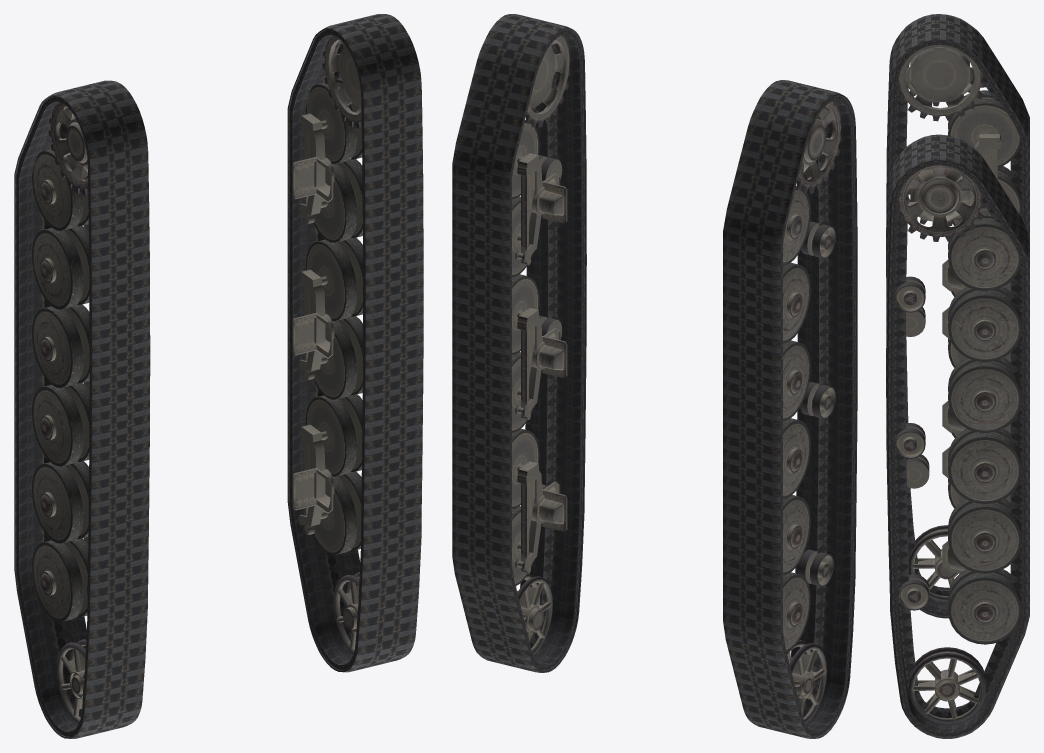
The model's file is Chassis.glb.
3 renders of one model, left to right at view 1: azimuth 30°, elevation 25°; view 2: azimuth 150°, elevation 25°; view 3: azimuth 270°, elevation 25°, orthographic. The views are drawn at different scales.
Parts seen in each view (by area): view 1: set_1_group_0, set_0_group_0, set_3_group_0, set_2_group_0; view 2: set_1_group_0, set_0_group_0, set_3_group_0, set_2_group_0; view 3: set_3_group_0, set_0_group_0, set_2_group_0, set_1_group_0.
Boxes of the visible parts, bbox=[...] form: set_1_group_0: bbox=[14, 80, 150, 738]; set_0_group_0: bbox=[287, 14, 423, 672]; set_3_group_0: bbox=[292, 35, 362, 654]; set_2_group_0: bbox=[32, 102, 89, 723]; set_1_group_0: bbox=[723, 80, 857, 738]; set_0_group_0: bbox=[452, 14, 586, 672]; set_3_group_0: bbox=[512, 35, 569, 654]; set_2_group_0: bbox=[783, 101, 841, 723]; set_3_group_0: bbox=[895, 165, 1021, 723]; set_0_group_0: bbox=[886, 134, 1029, 738]; set_2_group_0: bbox=[897, 44, 1021, 601]; set_1_group_0: bbox=[886, 14, 1029, 618].
Bounding box in the file's own units: 3.09 × 5.72 × 1.28.
4 materials, 4 textured.
